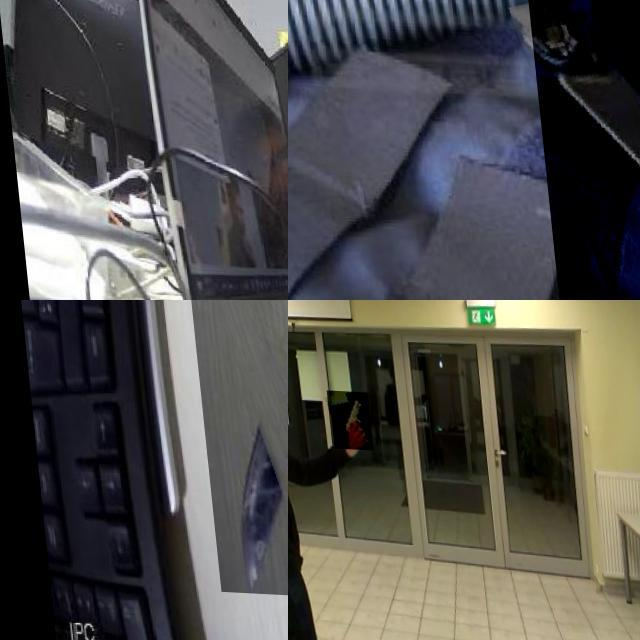-: (164, 300, 288, 601), (520, 0, 640, 300)
gun-knife-thesis - v11 Yolov5 augmented: (321, 388, 366, 447)
